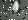person: (13, 1, 21, 15)
